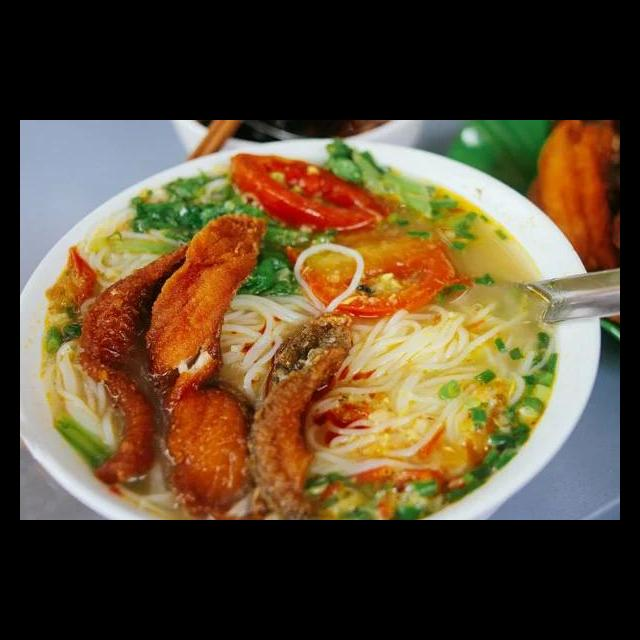bun: (306, 292, 569, 485), (46, 325, 127, 457), (223, 290, 302, 396)
bun ca: (22, 157, 594, 502)
ca: (68, 232, 197, 491), (141, 195, 274, 425), (238, 300, 359, 519)
